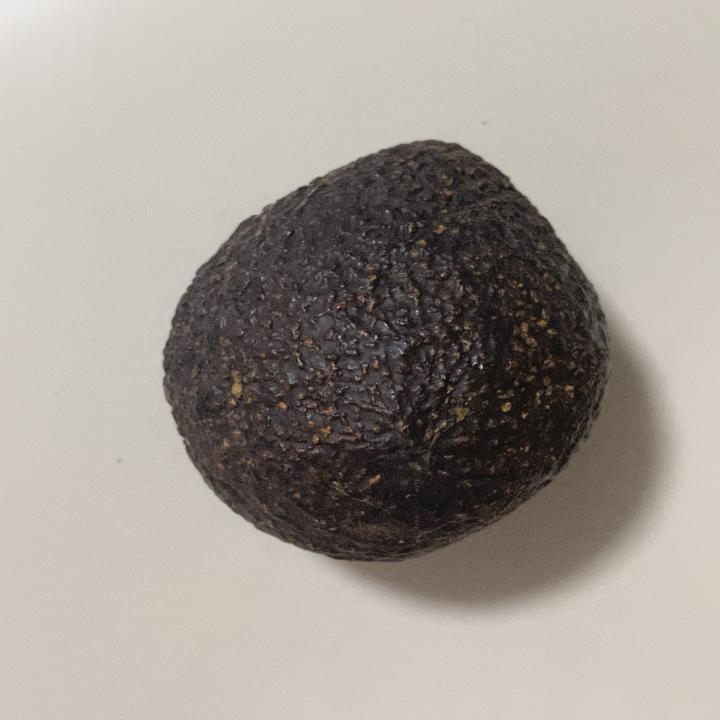Level3: (150, 132, 622, 568)
